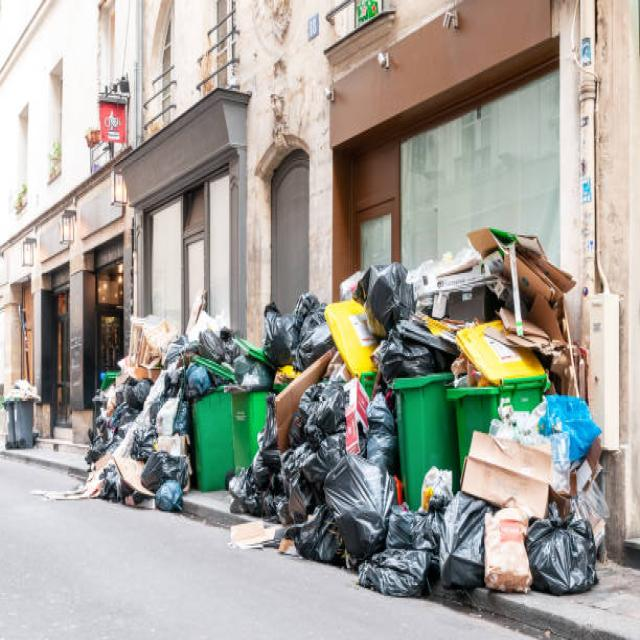cardboard: (418, 248, 585, 342), (466, 433, 560, 510)
trash: (302, 392, 453, 623), (139, 409, 197, 513), (208, 330, 305, 362)
